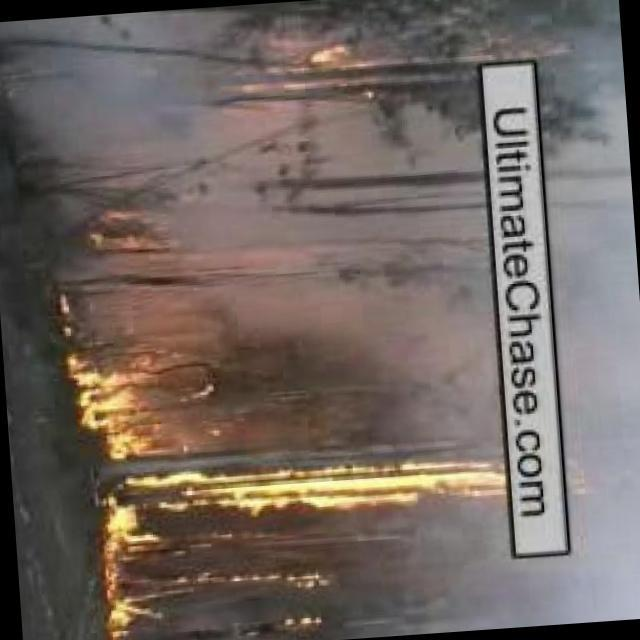Fire: (92, 444, 597, 556), (55, 336, 205, 468), (252, 23, 389, 101), (73, 197, 184, 275), (97, 568, 196, 640)
